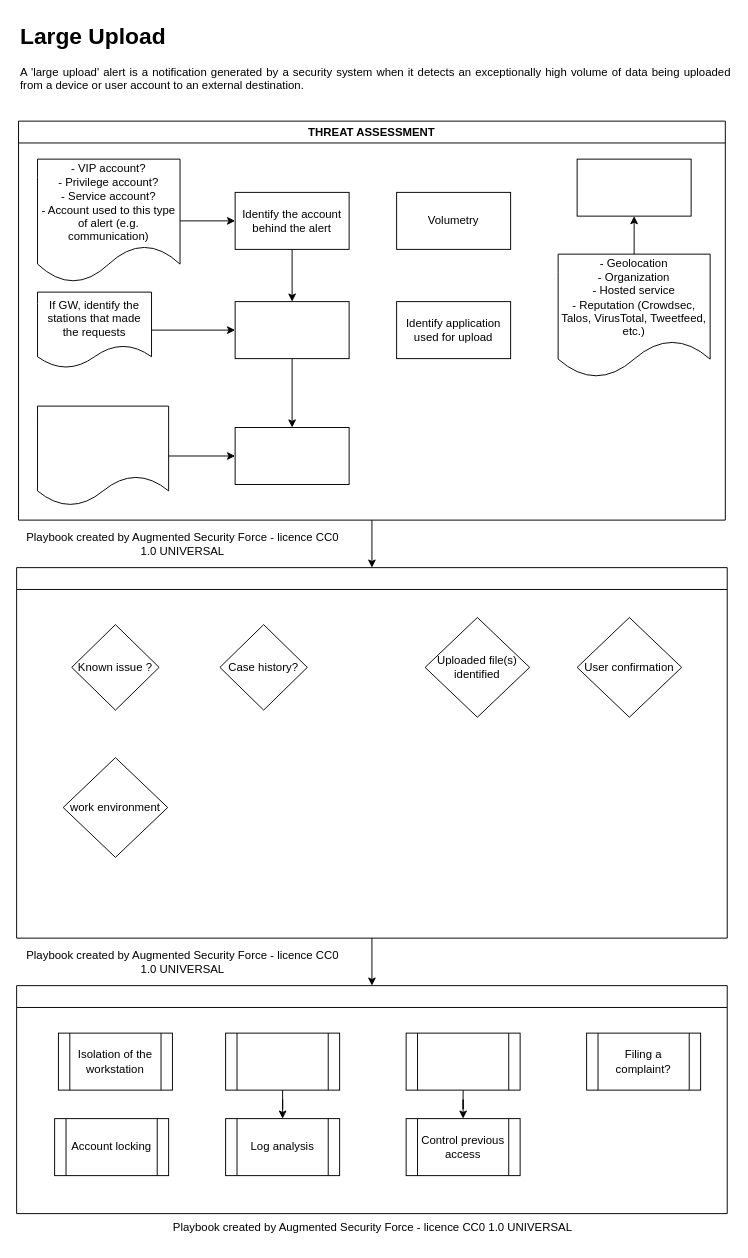
The diagram is 748 pixels wide and 1258 high, and some of its shapes have lost their labels. Each missing label, with the box of its shape:
ACTIONS / RECOMMENDATIONS: (16, 985, 727, 1214)
Add IP to block list: (405, 1032, 520, 1090)
DOUBT RESOLUTION: (16, 567, 727, 938)
Evidence extraction: (225, 1032, 340, 1090)
Identify destination: (576, 158, 691, 216)
Identify the workstation linked to this user: (234, 301, 349, 359)
Identify workstation vulnerabilities: (234, 427, 349, 484)
Vulnerabilities that may have been exploited to compromise the system: (37, 405, 169, 506)
